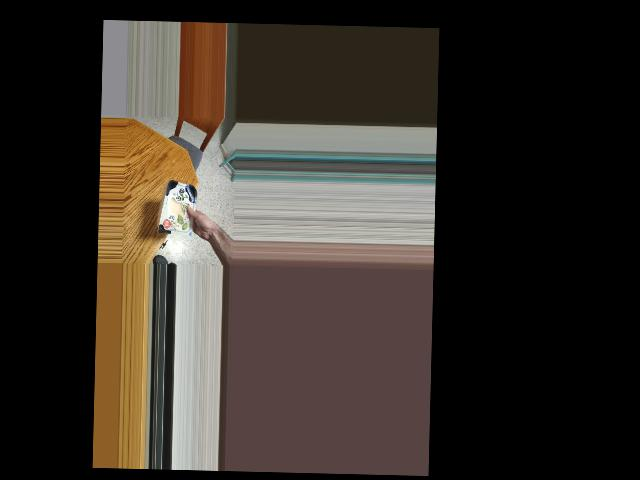cheese: (154, 180, 207, 238)
